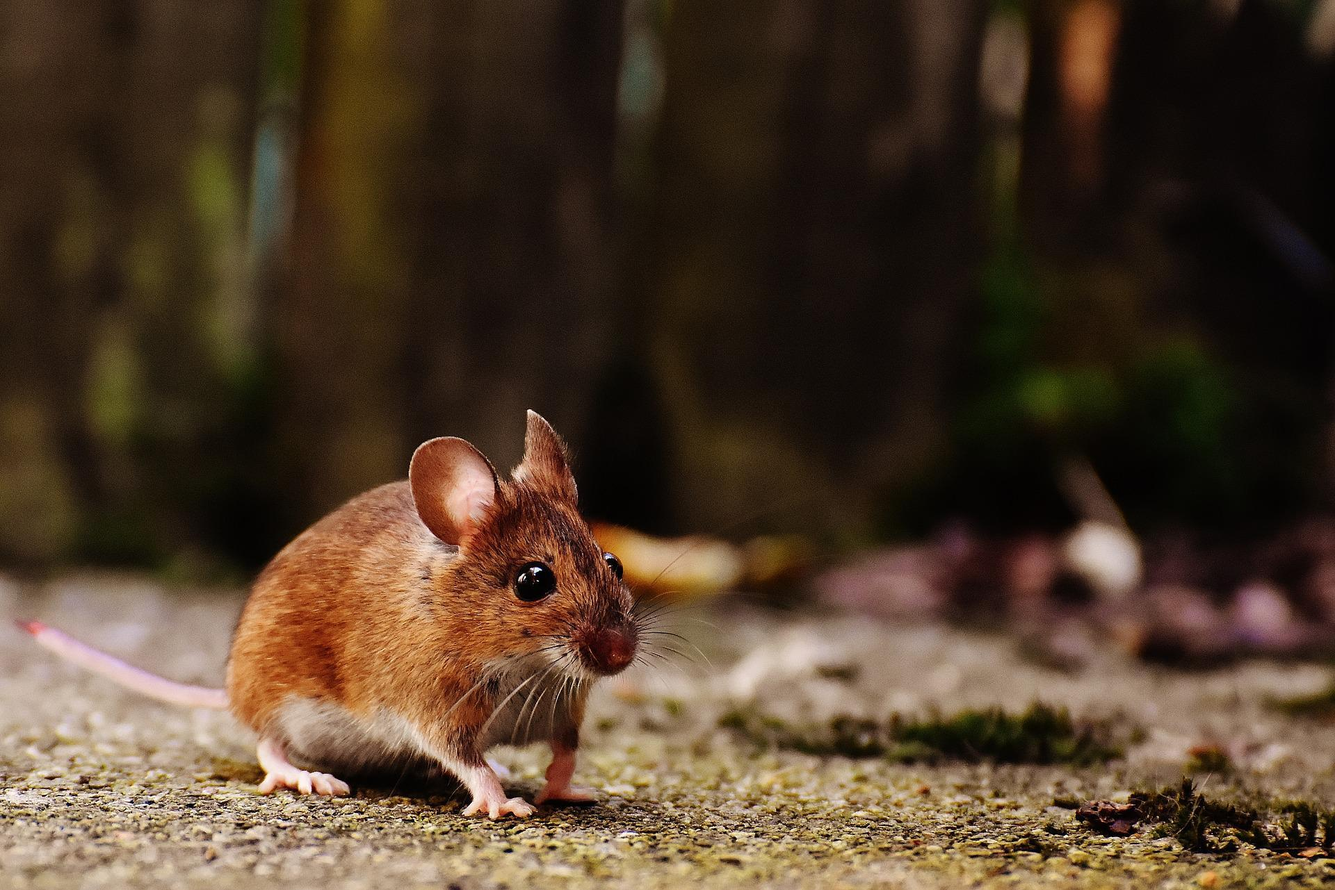rat: (19, 407, 640, 820)
